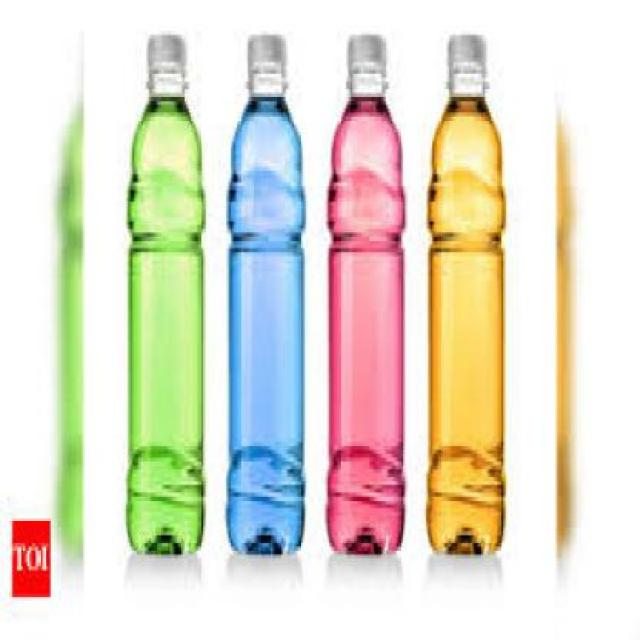Drinking: (210, 19, 320, 590), (117, 31, 225, 558), (413, 31, 515, 574), (323, 23, 414, 574)
